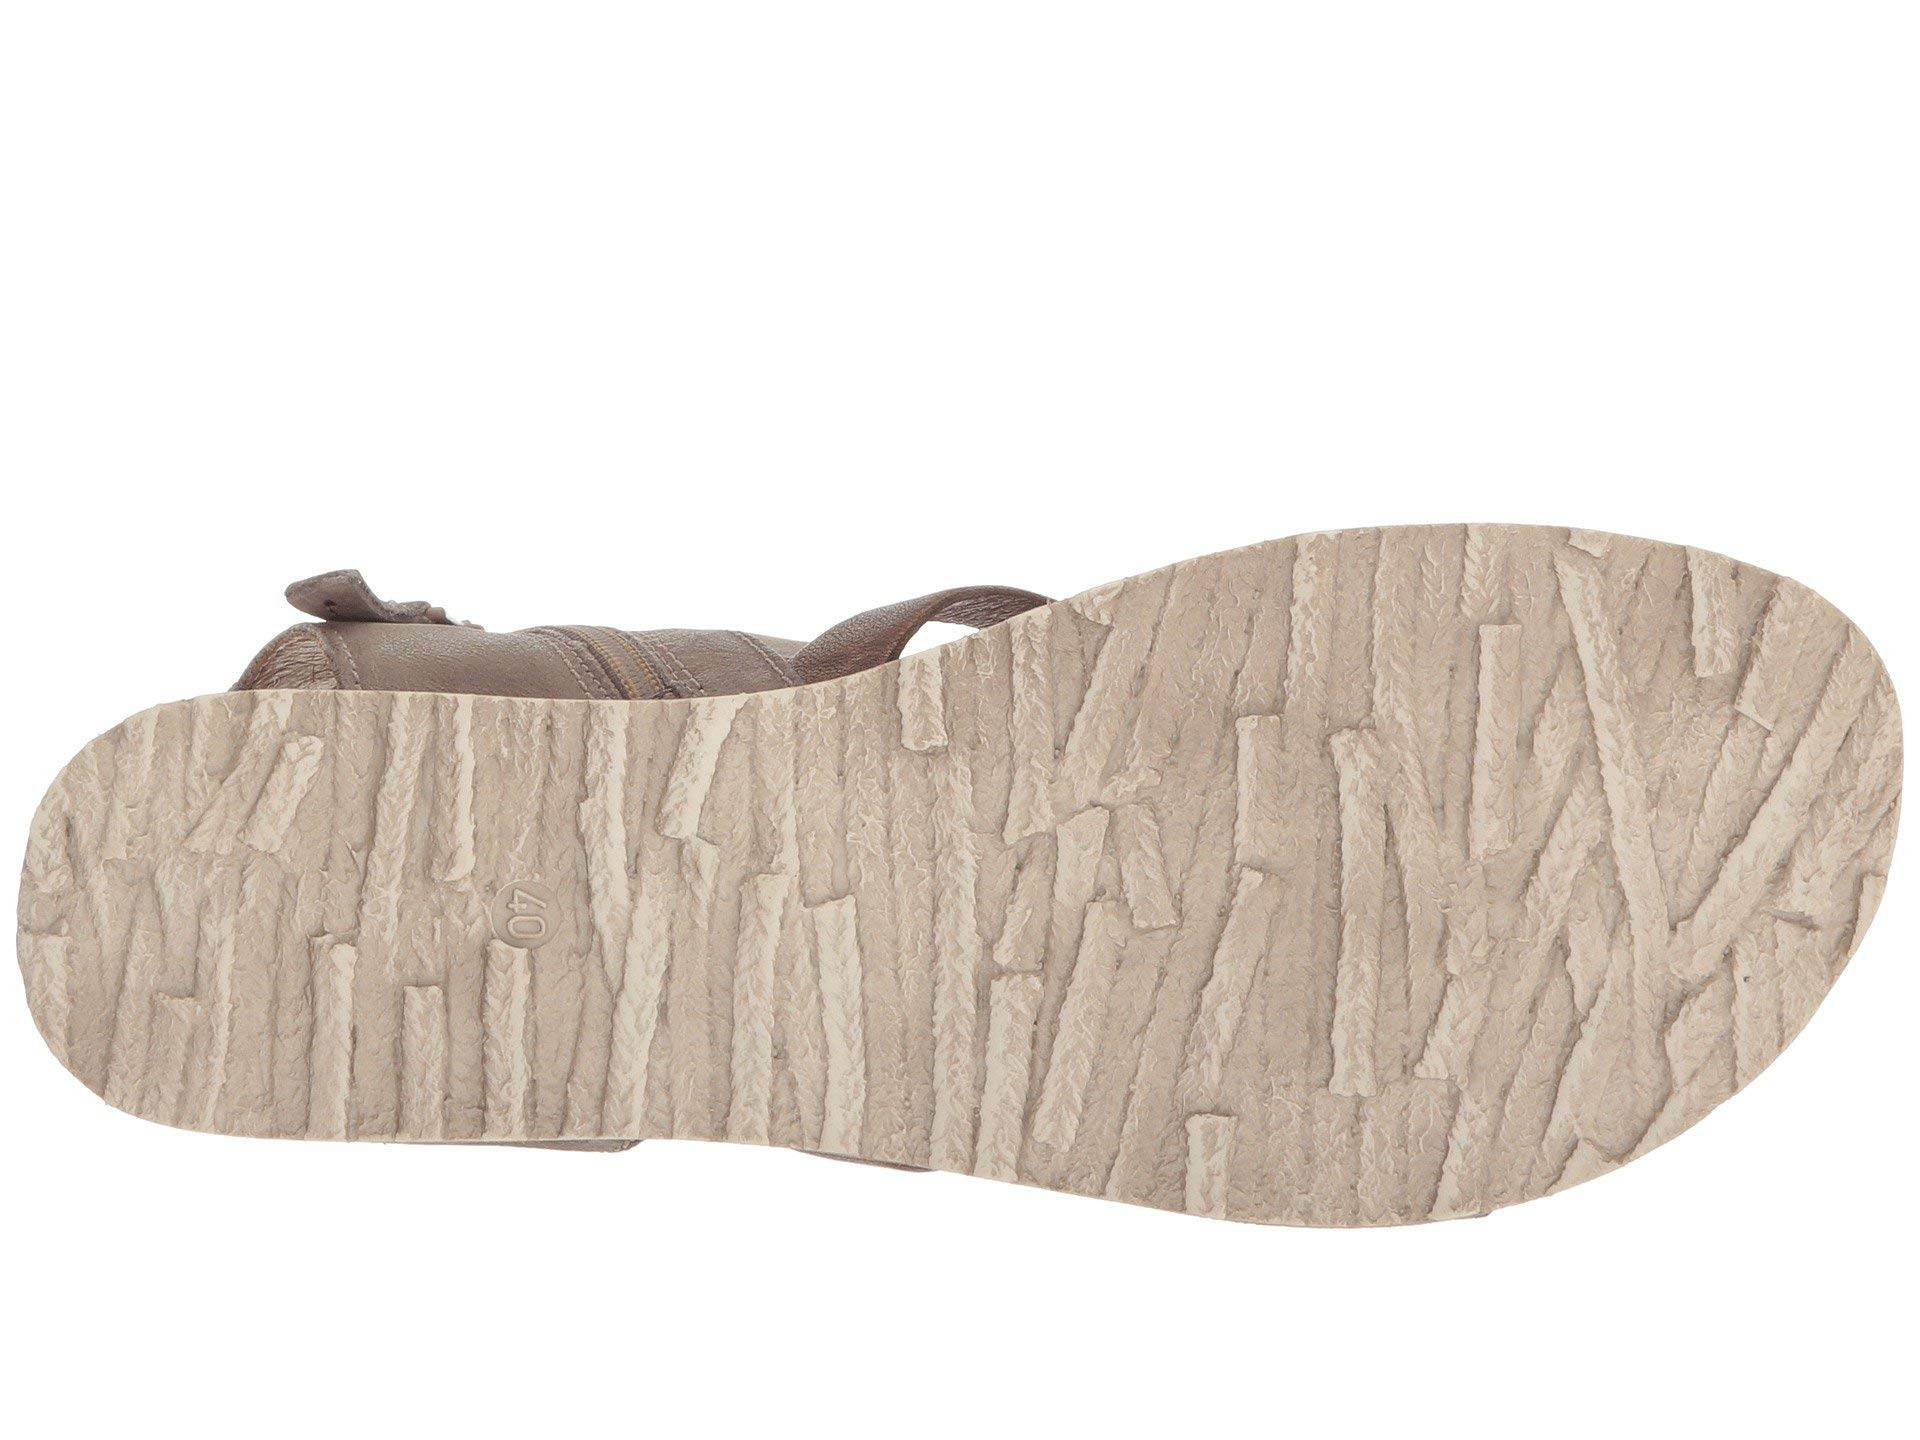circle: (488, 867, 571, 954)
exclude: (228, 501, 1082, 700)
quad: (1463, 619, 1533, 871), (732, 870, 782, 1147), (246, 722, 339, 867), (476, 930, 538, 1145), (1104, 803, 1188, 932)
text: (488, 867, 571, 954)
